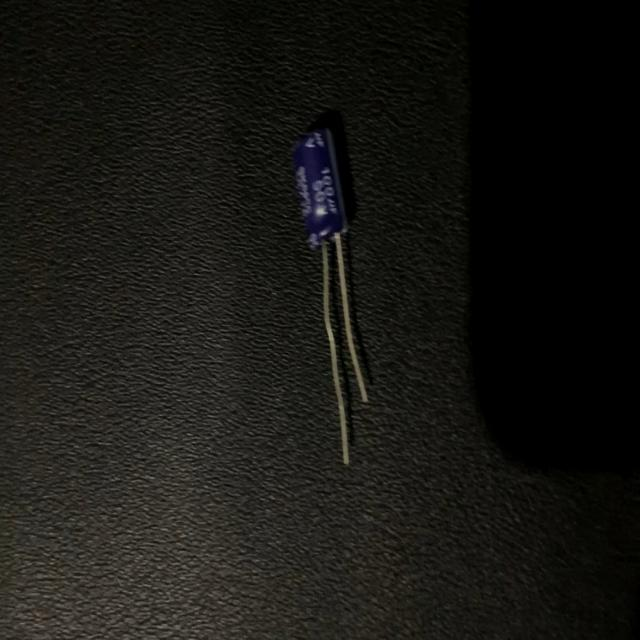capacitor: (290, 121, 367, 472)
